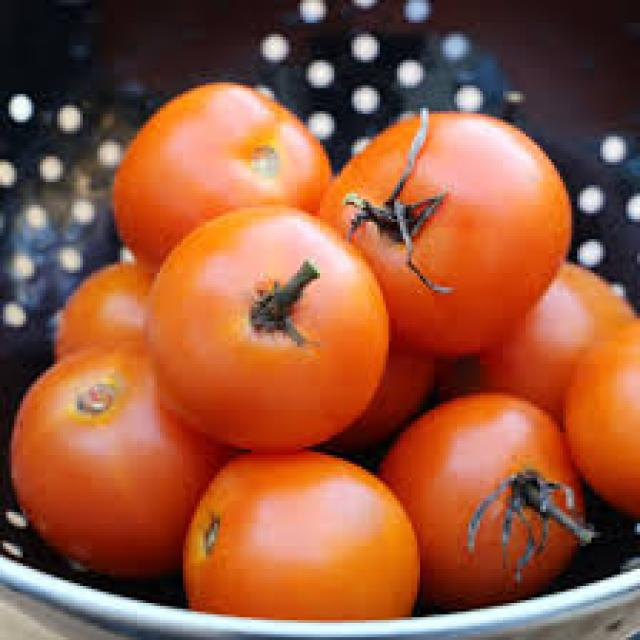Fresh_tomato: (349, 110, 566, 335), (146, 250, 391, 449), (212, 455, 440, 630), (25, 374, 230, 551), (120, 78, 314, 256), (432, 388, 570, 570)
